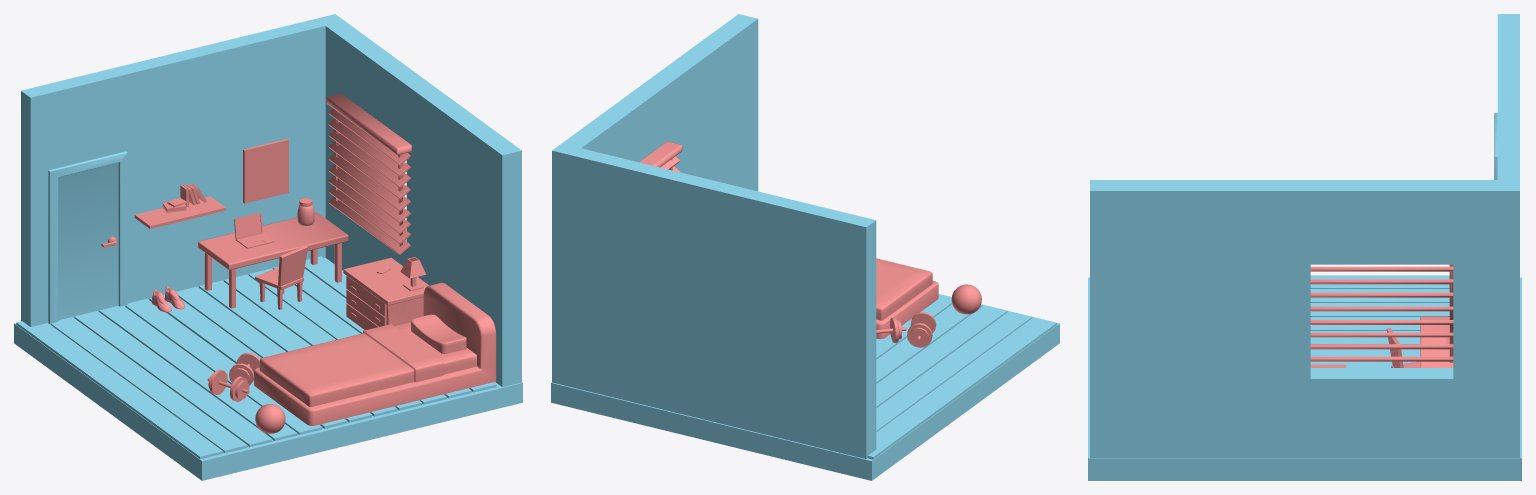
Rendered from UDG Room (merged).FBX.
3 renders of one model, left to right at view 1: azimuth 30°, elevation 25°; view 2: azimuth 150°, elevation 25°; view 3: azimuth 270°, elevation 25°, orthographic. The views are drawn at different scales.
Visible parts, largest first — view 1: walls, objects; view 2: walls, objects; view 3: walls, objects.
Part boxes in pixels (x1,y1,x2,y2): walls: (14,14,522,480); objects: (101,93,496,433); walls: (551,14,1059,480); objects: (639,141,981,347); walls: (1088,14,1521,480); objects: (1310,264,1453,367).
Size of the model in its own units: 479 by 359 by 486.
